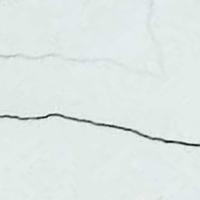crack: (0, 99, 199, 156)
